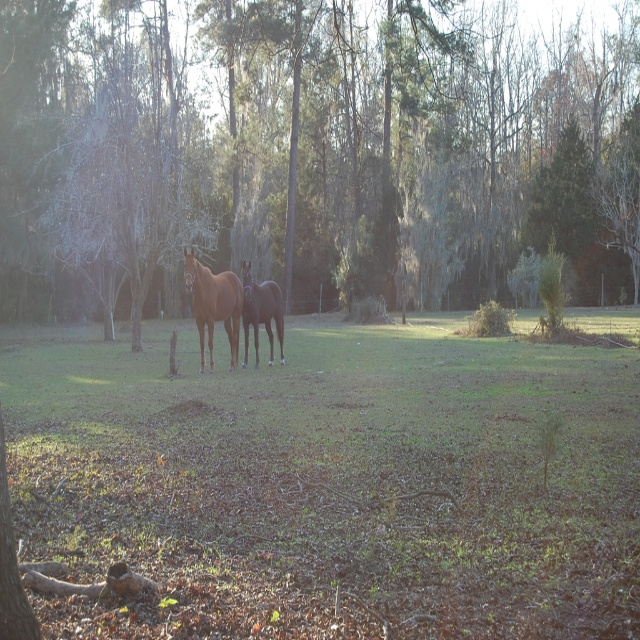Horse: (184, 247, 246, 373), (240, 260, 286, 366)
